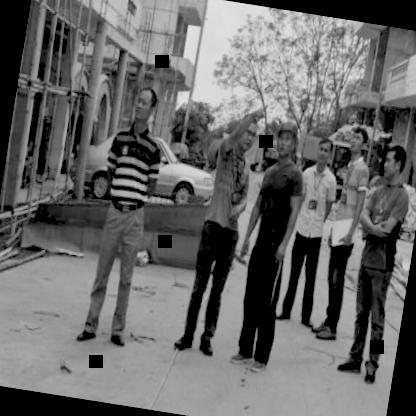head: (127, 77, 160, 130), (232, 109, 265, 155), (380, 140, 410, 184), (346, 123, 374, 160), (312, 130, 336, 168)
helmet: (268, 108, 302, 165)
